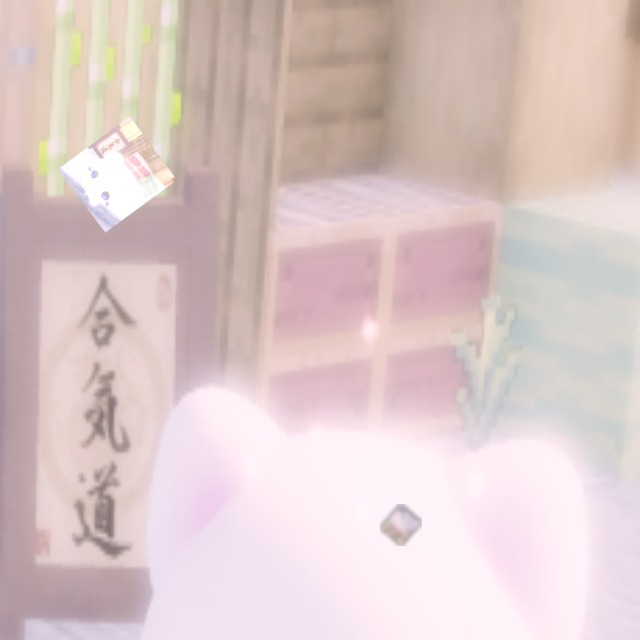urso_branco: (58, 116, 177, 233), (380, 504, 422, 546)
